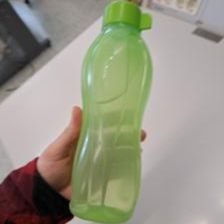bottle: (66, 2, 157, 223)
